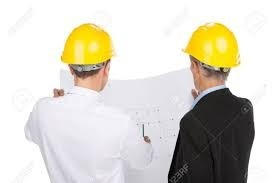helmet: (179, 19, 244, 73), (60, 21, 118, 69)
person with partial safety: (22, 21, 130, 182), (167, 20, 256, 182)
